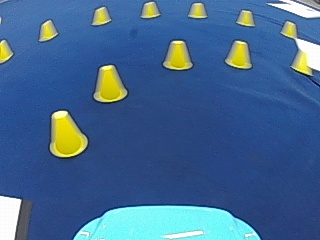cone: (48, 110, 87, 157), (93, 64, 127, 103), (162, 39, 192, 70), (224, 39, 252, 68), (290, 45, 309, 73), (38, 19, 57, 41), (91, 6, 110, 25), (140, 1, 159, 18), (236, 9, 254, 26), (280, 20, 297, 38), (0, 38, 13, 61), (188, 2, 206, 18)
